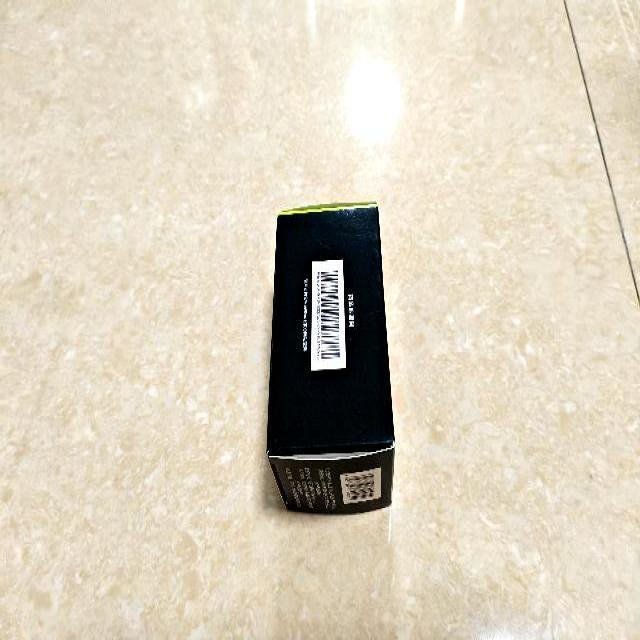box: (266, 202, 394, 513)
